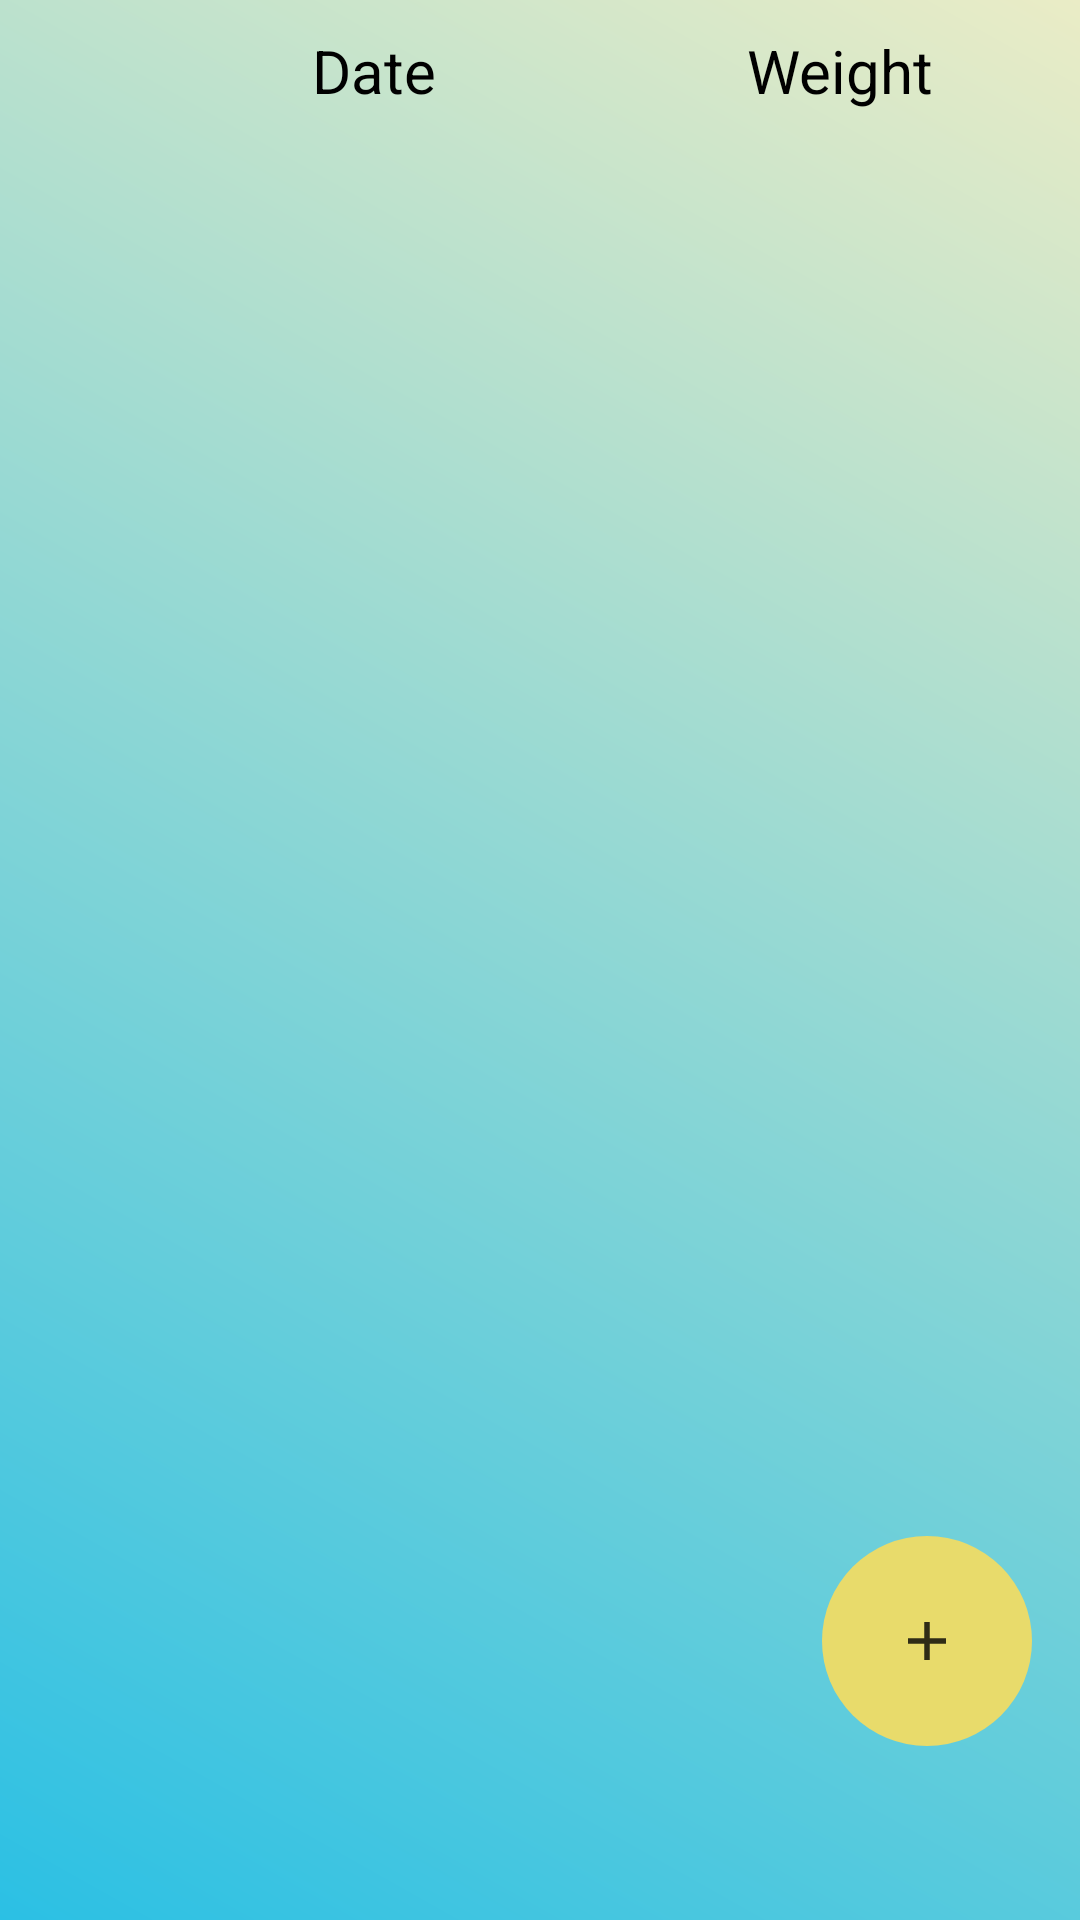

Icons on this 1080 x 1920 Android screen, each with the point to tap as [x,y]:
add: [927,1641]
